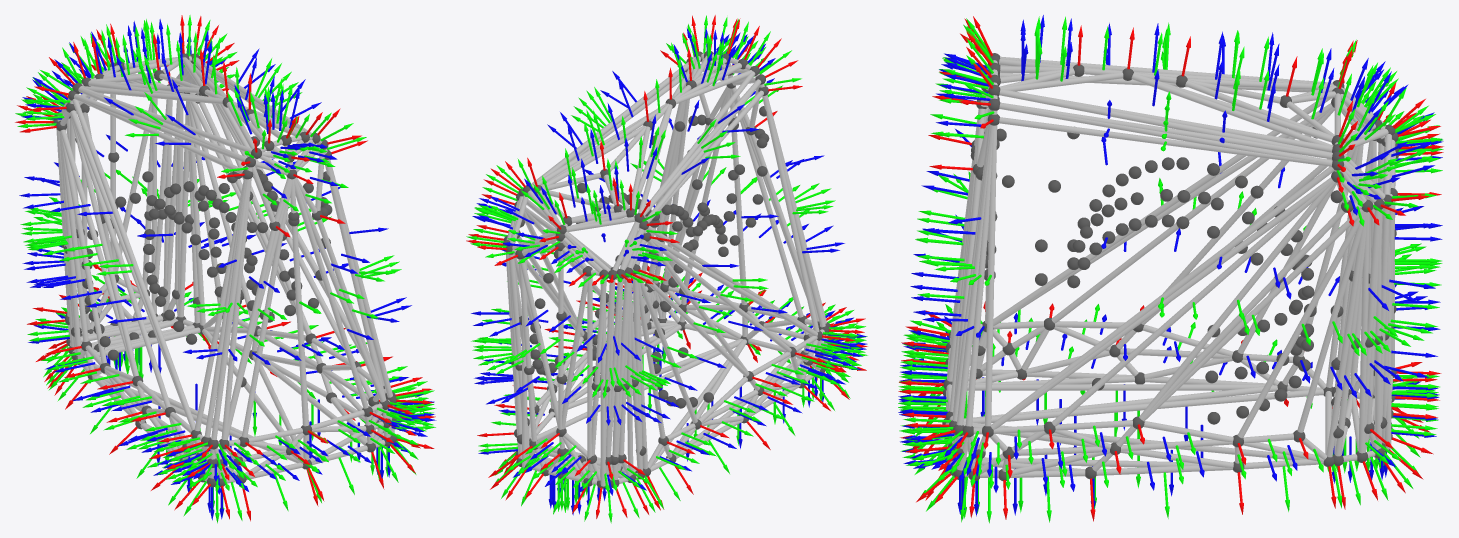
File: t2f_sewing_machine.gltf
3 views of the same model, side by side, from view 1: azimuth 30°, elevation 25°; view 2: azimuth 150°, elevation 25°; view 3: azimuth 270°, elevation 25° (orthographic). The views are drawn at different scales.
Bounding box in the file's own units: 0.5442 × 0.7703 × 0.8498.
